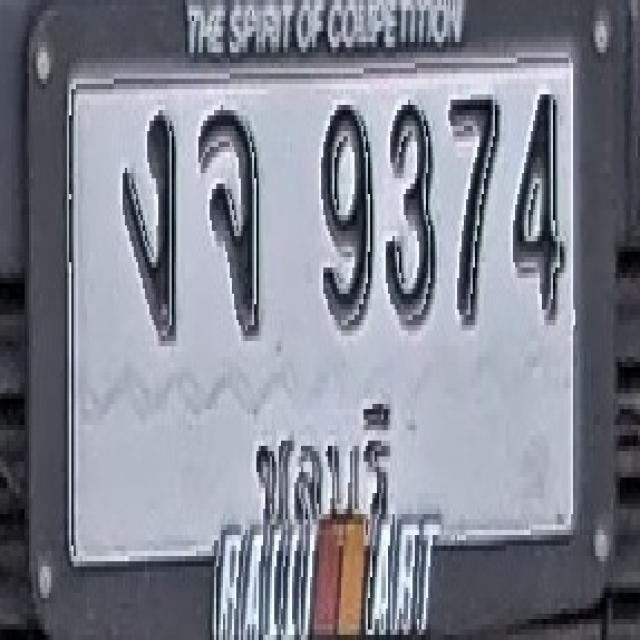3: (386, 100, 435, 325)
4: (512, 89, 563, 320)
7: (448, 94, 500, 326)
9: (321, 100, 373, 325)
A07: (123, 110, 176, 341)
A08: (198, 105, 261, 336)
CBI: (244, 387, 395, 527)
